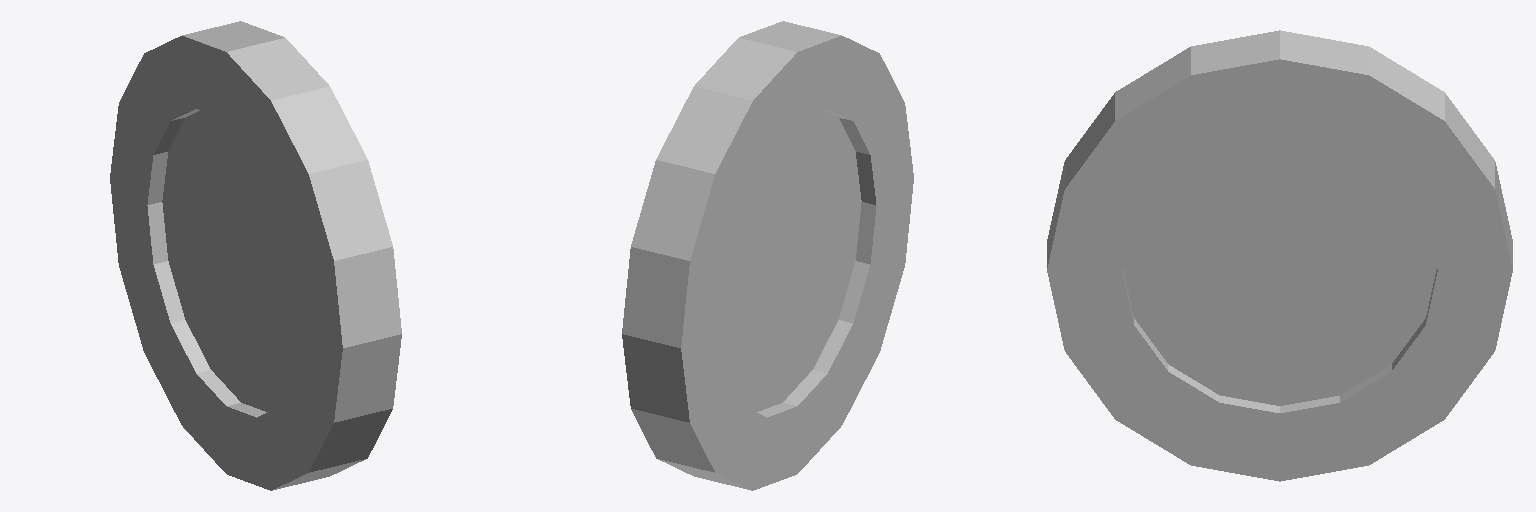
The model's file is Coin.obj.
The picture shows the model from 3 angles: view 1: azimuth 30°, elevation 25°; view 2: azimuth 150°, elevation 25°; view 3: azimuth 270°, elevation 25°; orthographic projection.
Parts seen in each view (by area): view 1: bitcoin; view 2: bitcoin; view 3: bitcoin.
Boxes of the visible parts, <box> form: bitcoin: <box>110,21,401,490</box>; bitcoin: <box>622,21,913,490</box>; bitcoin: <box>1047,30,1512,481</box>.
Size of the model in its own units: 0.2127 by 1.45 by 1.45.